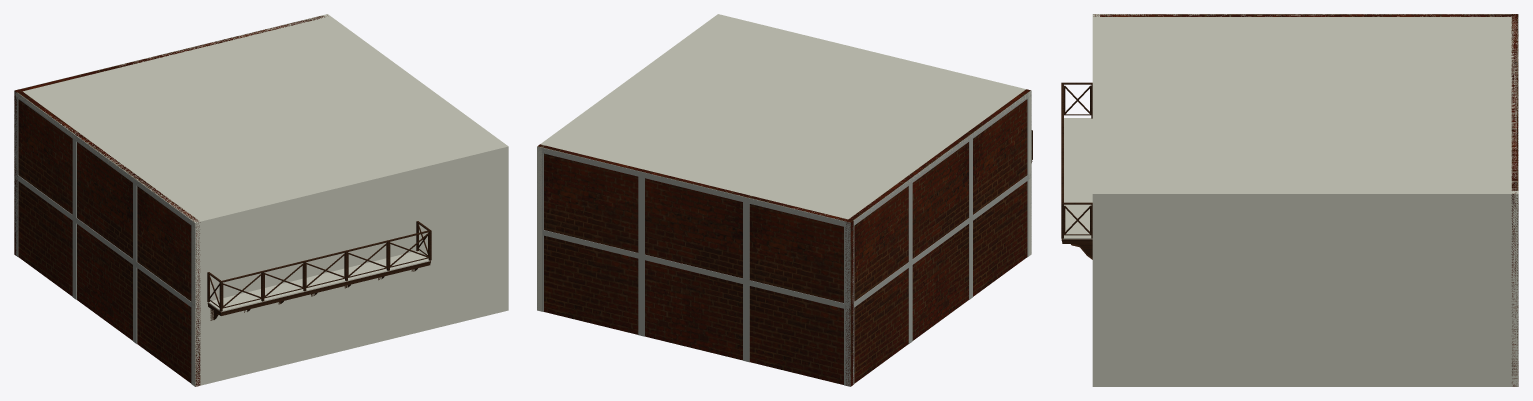
The model's file is building.glb.
3 renders of one model, left to right at view 1: azimuth 30°, elevation 25°; view 2: azimuth 150°, elevation 25°; view 3: azimuth 270°, elevation 25°, orthographic. The views are drawn at different scales.
Visible parts, largest first — view 1: roof/house:0/roof_slab#0001, house:0/edge0/z0/house:0/edge0/z0/wall_0_0, house:0/edge3/z0/house:0/edge3/z0/wall_0_0, balcony/sample/balcony_platform#0001, house:0/edge2/z0/house:0/edge2/z0/wall_0_0, house:0/edge3/z0/house:0/edge3/z0/beam_0_0, house:0/edge3/z0/house:0/edge3/z0/beam_1_0, house:0/edge1/z0/house:0/edge1/z0/wall_0_0, balcony/sample/balcony_fascia#0001, balcony/sample/balcony_handrail#0001; view 2: roof/house:0/roof_slab#0001, house:0/edge2/z0/house:0/edge2/z0/wall_0_0, house:0/edge3/z0/house:0/edge3/z0/wall_0_0, house:0/edge1/z0/house:0/edge1/z0/wall_0_0, house:0/edge2/z0/house:0/edge2/z0/beam_1_0, house:0/edge2/z0/house:0/edge2/z0/beam_0_0, house:0/edge0/z0/house:0/edge0/z0/wall_0_0, house:0/edge3/z0/house:0/edge3/z0/beam_0_0, house:0/edge3/z0/house:0/edge3/z0/beam_1_0, house:0/edge2/z0/house:0/edge2/z0/column_2_0, house:0/edge2/z0/house:0/edge2/z0/column_2_1, house:0/edge2/z0/house:0/edge2/z0/column_3_0 (+3 smaller); view 3: house:0/edge1/z0/house:0/edge1/z0/wall_0_0, roof/house:0/roof_slab#0001, balcony/sample/balcony_platform#0001, house:0/edge0/z0/house:0/edge0/z0/wall_0_0, house:0/edge2/z0/house:0/edge2/z0/wall_0_0, house:0/edge3/z0/house:0/edge3/z0/wall_0_0, balcony/sample/balcony_handrail#0001.
Part boxes in pixels (<box>): roof/house:0/roof_slab#0001: <box>15,14,506,225</box>; house:0/edge0/z0/house:0/edge0/z0/wall_0_0: <box>192,144,508,386</box>; house:0/edge3/z0/house:0/edge3/z0/wall_0_0: <box>17,89,200,386</box>; balcony/sample/balcony_platform#0001: <box>208,251,429,312</box>; house:0/edge2/z0/house:0/edge2/z0/wall_0_0: <box>14,15,327,255</box>; house:0/edge3/z0/house:0/edge3/z0/beam_0_0: <box>14,173,195,309</box>; house:0/edge3/z0/house:0/edge3/z0/beam_1_0: <box>14,92,195,227</box>; house:0/edge1/z0/house:0/edge1/z0/wall_0_0: <box>323,14,508,311</box>; balcony/sample/balcony_fascia#0001: <box>207,261,430,315</box>; balcony/sample/balcony_handrail#0001: <box>207,221,431,282</box>; roof/house:0/roof_slab#0001: <box>540,14,1031,223</box>; house:0/edge2/z0/house:0/edge2/z0/wall_0_0: <box>538,144,853,386</box>; house:0/edge3/z0/house:0/edge3/z0/wall_0_0: <box>845,89,1030,385</box>; house:0/edge1/z0/house:0/edge1/z0/wall_0_0: <box>537,15,722,311</box>; house:0/edge2/z0/house:0/edge2/z0/beam_1_0: <box>538,147,850,228</box>; house:0/edge2/z0/house:0/edge2/z0/beam_0_0: <box>542,230,850,309</box>; house:0/edge0/z0/house:0/edge0/z0/wall_0_0: <box>717,14,1031,256</box>; house:0/edge3/z0/house:0/edge3/z0/beam_0_0: <box>850,172,1031,309</box>; house:0/edge3/z0/house:0/edge3/z0/beam_1_0: <box>850,90,1031,227</box>; house:0/edge2/z0/house:0/edge2/z0/column_2_0: <box>638,176,644,254</box>; house:0/edge2/z0/house:0/edge2/z0/column_2_1: <box>638,258,644,336</box>; house:0/edge2/z0/house:0/edge2/z0/column_3_0: <box>743,202,749,280</box>; house:0/edge1/z0/house:0/edge1/z0/wall_0_0: <box>1092,191,1518,386</box>; roof/house:0/roof_slab#0001: <box>1092,14,1518,198</box>; balcony/sample/balcony_platform#0001: <box>1063,118,1092,239</box>; house:0/edge0/z0/house:0/edge0/z0/wall_0_0: <box>1092,14,1099,386</box>; house:0/edge2/z0/house:0/edge2/z0/wall_0_0: <box>1511,14,1518,386</box>; house:0/edge3/z0/house:0/edge3/z0/wall_0_0: <box>1093,14,1517,16</box>; balcony/sample/balcony_handrail#0001: <box>1061,82,1092,204</box>.
Bounding box in the file's own units: 12 × 6 × 12.89.
4 materials, 2 textured.
